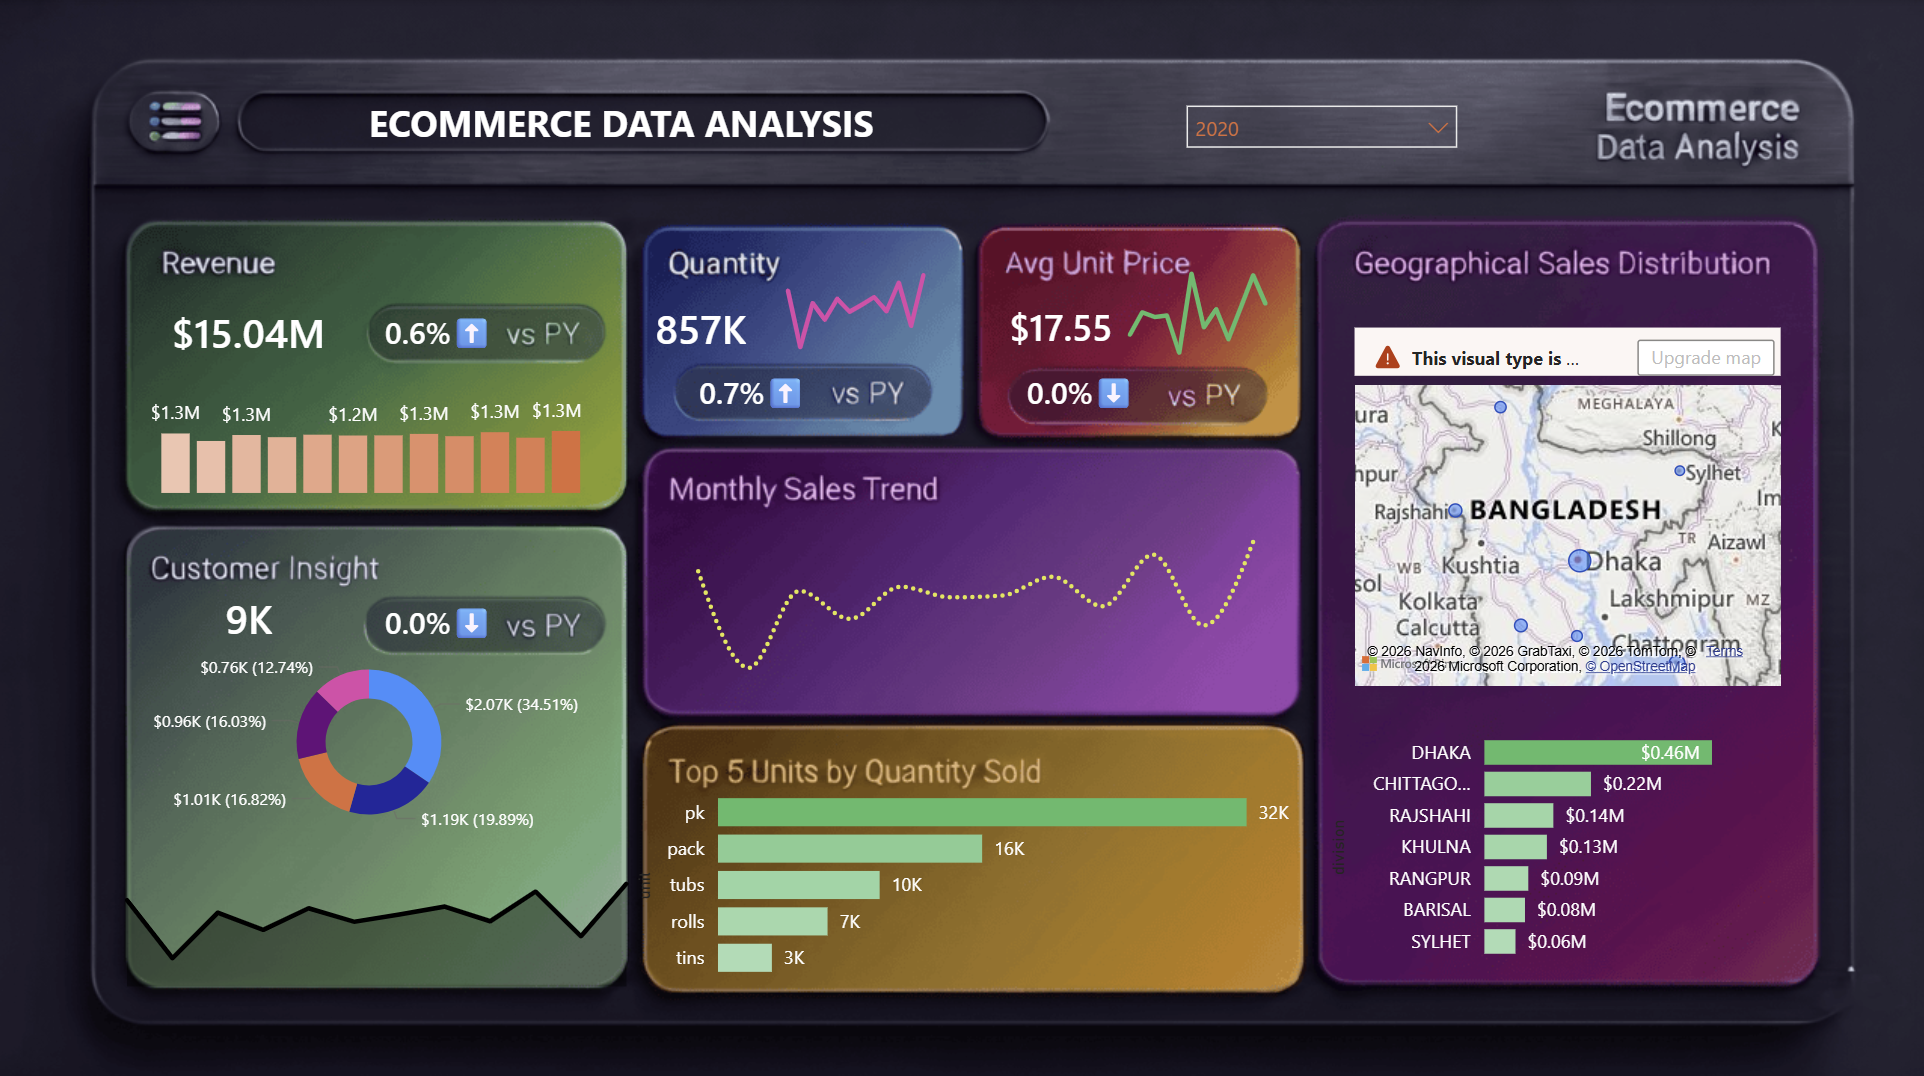

This screenshot's page, from the dashboard's own definition file:
{"tool":"powerbi","page":{"name":"Overview","canvas":[1280,720],"ordinal":0},"visuals":[{"type":"cardVisual","fields":{"Data":["DAX Measure.TOTAL SALES"]},"box":[76.9,188.3,177.7,62.3],"z":0},{"type":"cardVisual","fields":{"Data":["DAX Measure.% YOY SALES"]},"box":[205.5,185.6,172.4,69],"z":1000},{"type":"columnChart","fields":{"Category":["time_dim.month"],"Y":["DAX Measure.TOTAL SALES"]},"box":[78.2,254.6,312.9,79.6],"z":2000},{"type":"slicer","fields":{"Values":["time_dim.year"]},"box":[782.3,66.3,189.6,39.8],"z":3000},{"type":"cardVisual","fields":{"Data":["DAX Measure.TOTAL QUNITITY"]},"box":[377.9,185.6,175,62.3],"z":4000},{"type":"cardVisual","fields":{"Data":["DAX Measure.% YOY QUANTITY"]},"box":[413.7,225.4,172.4,69],"z":5000},{"type":"cardVisual","fields":{"Data":["DAX Measure.AVG UNIT PRICE"]},"box":[616.6,185.6,175,62.3],"z":6000},{"type":"cardVisual","fields":{"Data":["DAX Measure.% YOY AVG PRICE"]},"box":[631.2,225.4,172.4,69],"z":7000},{"type":"lineChart","fields":{"Category":["time_dim.month"],"Y":["DAX Measure.TOTAL QUNITITY"]},"box":[499.9,156.5,152.5,98.1],"z":8000},{"type":"lineChart","fields":{"Category":["time_dim.month"],"Y":["DAX Measure.AVG UNIT PRICE"]},"box":[726.6,167.1,152.5,76.9],"z":9000},{"type":"cardVisual","fields":{"Data":["DAX Measure.CUSTOMERS"]},"box":[78.2,377.9,175,62.3],"z":10000},{"type":"cardVisual","fields":{"Data":["DAX Measure.% YOY CUSTOMERS"]},"box":[205.5,377.9,172.4,69],"z":11000},{"type":"donutChart","fields":{"Y":["DAX Measure.TOTAL SALES"],"Category":["customer_dim.name"]},"box":[76.9,427,336.8,132.6],"z":12000},{"type":"areaChart","fields":{"Category":["time_dim.month"],"Y":["DAX Measure.TOTAL QUNITITY"]},"box":[39.8,559.6,391.2,100.8],"z":13000},{"type":"lineChart","fields":{"Category":["time_dim.month"],"Y":["DAX Measure.TOTAL SALES"]},"box":[415,323.5,432.3,137.9],"z":14000},{"type":"barChart","fields":{"Y":["DAX Measure.TOTAL QUNITITY"],"Category":["fact_table.unit"]},"box":[418,508.3,442.5,153.1],"z":15000},{"type":"map","fields":{"Category":["store_dim.division"],"Size":["DAX Measure.TOTAL SALES"]},"box":[893.8,213.8,292.5,247.5],"z":16000},{"type":"barChart","fields":{"Y":["DAX Measure.TOTAL SALES"],"Category":["store_dim.division"]},"box":[878.1,471.2,309.6,176.7],"z":17000},{"type":"textbox","box":[219.2,61.6,387.7,43.8],"z":18000}]}

Visuals, with their boxes in screenshot pixels (x1, y1, x2, y2), scaled from the page's 1280x720 canvas onto the 1924x1076 screenshot:
cardVisual - DAX Measure.TOTAL SALES: [116, 281, 383, 375]
cardVisual - DAX Measure.% YOY SALES: [309, 277, 568, 380]
columnChart - time_dim.month x DAX Measure.TOTAL SALES: [118, 380, 588, 499]
slicer - time_dim.year: [1176, 99, 1461, 159]
cardVisual - DAX Measure.TOTAL QUNITITY: [568, 277, 831, 370]
cardVisual - DAX Measure.% YOY QUANTITY: [622, 337, 881, 440]
cardVisual - DAX Measure.AVG UNIT PRICE: [927, 277, 1190, 370]
cardVisual - DAX Measure.% YOY AVG PRICE: [949, 337, 1208, 440]
lineChart - time_dim.month x DAX Measure.TOTAL QUNITITY: [751, 234, 981, 380]
lineChart - time_dim.month x DAX Measure.AVG UNIT PRICE: [1092, 250, 1321, 365]
cardVisual - DAX Measure.CUSTOMERS: [118, 565, 381, 658]
cardVisual - DAX Measure.% YOY CUSTOMERS: [309, 565, 568, 668]
donutChart - DAX Measure.TOTAL SALES x customer_dim.name: [116, 638, 622, 836]
areaChart - time_dim.month x DAX Measure.TOTAL QUNITITY: [60, 836, 648, 987]
lineChart - time_dim.month x DAX Measure.TOTAL SALES: [624, 483, 1274, 690]
barChart - DAX Measure.TOTAL QUNITITY x fact_table.unit: [628, 760, 1293, 988]
map - store_dim.division x DAX Measure.TOTAL SALES: [1343, 320, 1783, 689]
barChart - DAX Measure.TOTAL SALES x store_dim.division: [1320, 704, 1785, 968]
textbox: [329, 92, 912, 158]
